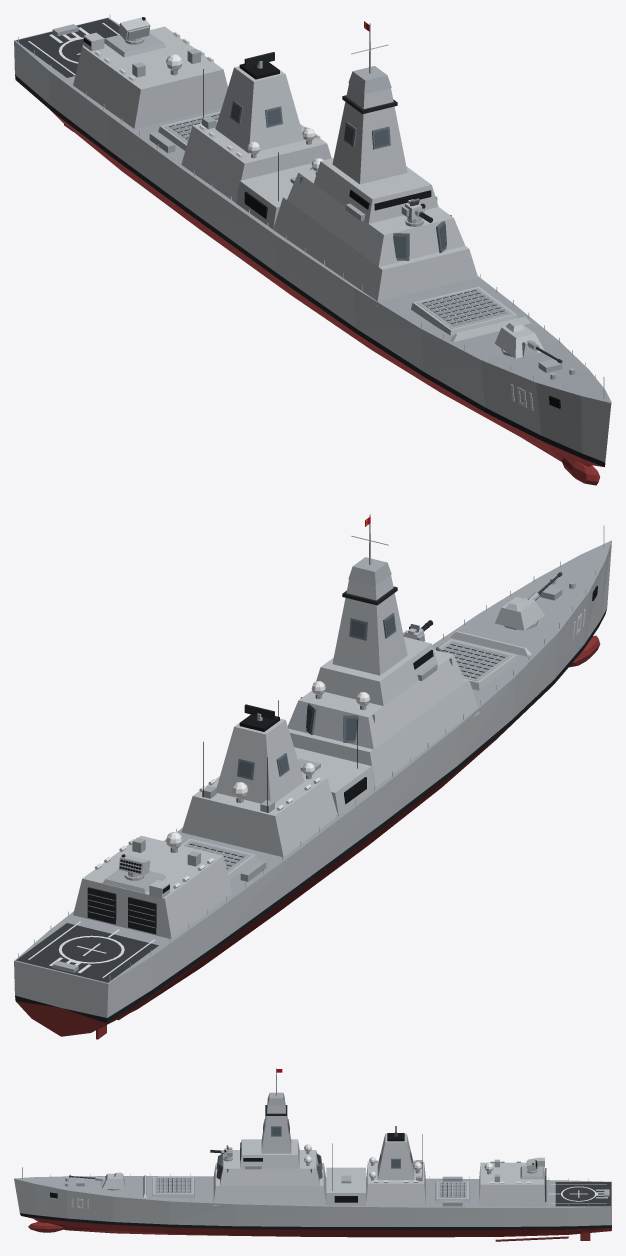
The model's file is destroyer.glb.
3 renders of one model, top to bottom at view 1: azimuth 30°, elevation 25°; view 2: azimuth 150°, elevation 25°; view 3: azimuth 270°, elevation 25°, orthographic. The views are drawn at different scales.
Parts seen in each view (by area): view 1: part-0000, part-0387, part-0162, part-0163, part-0242, part-0243, part-0178, part-0164, part-0373, part-0236, part-0014, part-0013 (+3 smaller); view 2: part-0000, part-0242, part-0387, part-0163, part-0162, part-0178, part-0243, part-0373, part-0164, part-0236, part-0007, part-0389 (+5 smaller); view 3: part-0000, part-0387, part-0162, part-0163, part-0242, part-0373, part-0236, part-0243, part-0164, part-0178, part-0014, part-0274 (+5 smaller).
Part boxes in pixels (x1,y1,x2,y2): part-0000: (14,17,611,467); part-0387: (73,26,227,128); part-0162: (273,196,477,306); part-0163: (287,169,465,266); part-0242: (181,119,331,202); part-0243: (215,62,304,153); part-0178: (332,84,407,184); part-0164: (313,158,438,223); part-0373: (16,18,119,77); part-0236: (236,158,331,229); part-0014: (417,288,512,328); part-0013: (411,286,517,335); part-0000: (14,540,611,1036); part-0242: (181,772,337,857); part-0387: (73,835,232,939); part-0163: (287,650,465,749); part-0162: (288,678,479,787); part-0178: (332,575,407,675); part-0243: (216,714,304,803); part-0373: (16,923,158,982); part-0164: (316,637,438,705); part-0236: (294,747,374,815); part-0007: (495,597,544,630); part-0389: (87,887,116,924); part-0000: (14,1176,611,1237); part-0387: (479,1162,545,1206); part-0162: (213,1163,326,1205); part-0163: (220,1150,319,1185); part-0242: (366,1161,425,1206); part-0373: (555,1182,611,1206); part-0236: (326,1167,365,1205); part-0243: (377,1133,414,1179); part-0164: (240,1139,299,1168); part-0178: (261,1101,291,1153); part-0014: (154,1177,192,1193); part-0274: (437,1182,467,1198).
Size of the model in its own units: 20.8 by 56.01 by 180.
